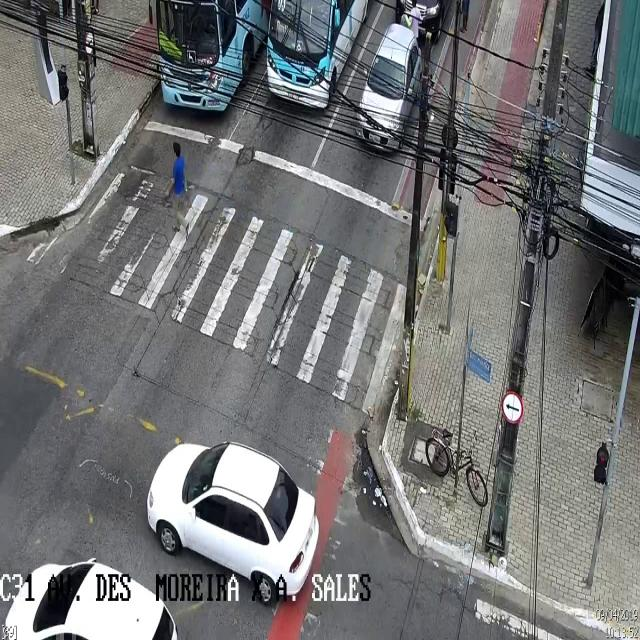Bus: (151, 0, 269, 116)
Car: (146, 442, 319, 604), (4, 559, 178, 639), (263, 0, 372, 96), (357, 21, 425, 156), (389, 0, 457, 38)
